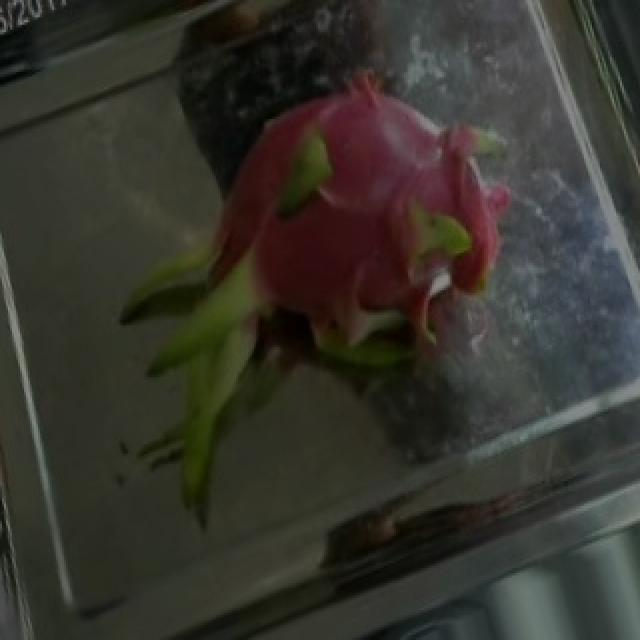fruit: (136, 10, 562, 461)
